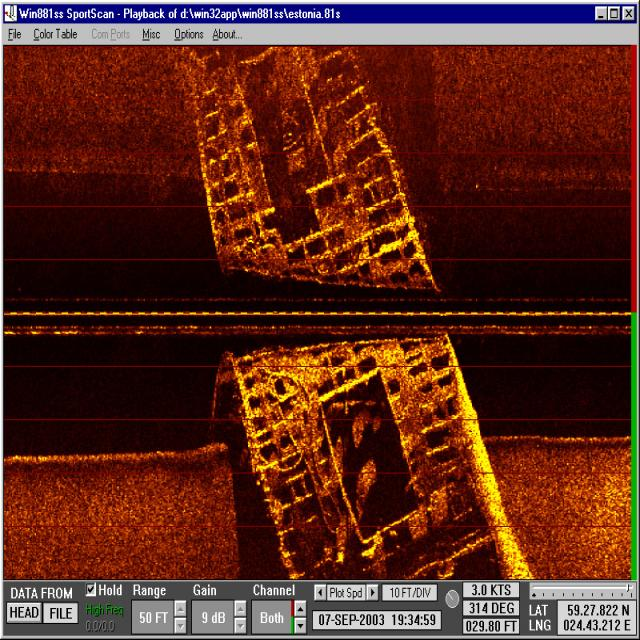ship: (188, 58, 505, 576)
